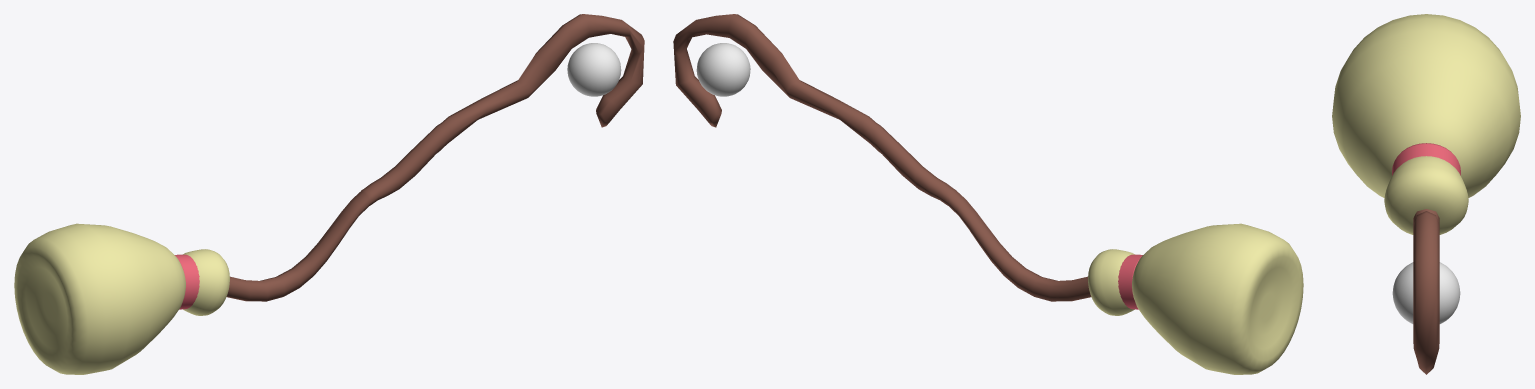
The model's file is broom.fbx.
3 renders of one model, left to right at view 1: azimuth 30°, elevation 25°; view 2: azimuth 150°, elevation 25°; view 3: azimuth 270°, elevation 25°, orthographic. The views are drawn at different scales.
Visible parts, largest first — view 1: Sphere.002; view 2: Sphere.002; view 3: Sphere.002.
Boxes of the visible parts, x1,y1,x2,y2 form: Sphere.002: (14,14,644,374); Sphere.002: (673,14,1303,374); Sphere.002: (1332,14,1520,374).
Bounding box in the file's own units: 913 × 338 × 199.
